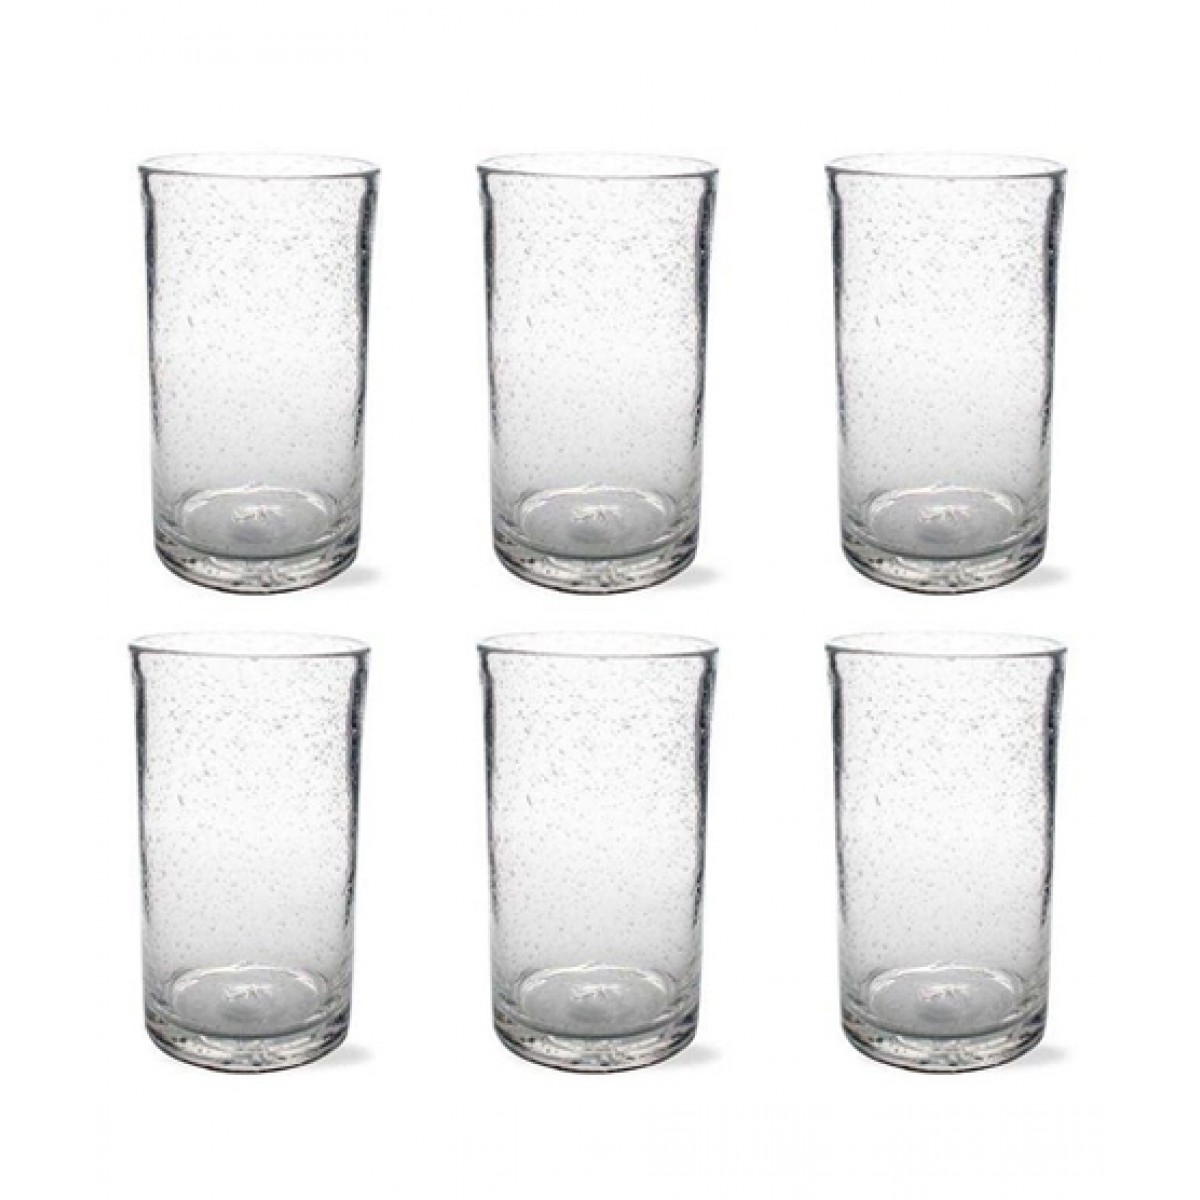plastic_glass: (122, 623, 384, 1084), (467, 624, 729, 1081), (819, 623, 1077, 1081), (815, 140, 1067, 608), (471, 136, 724, 600), (130, 140, 378, 600)
